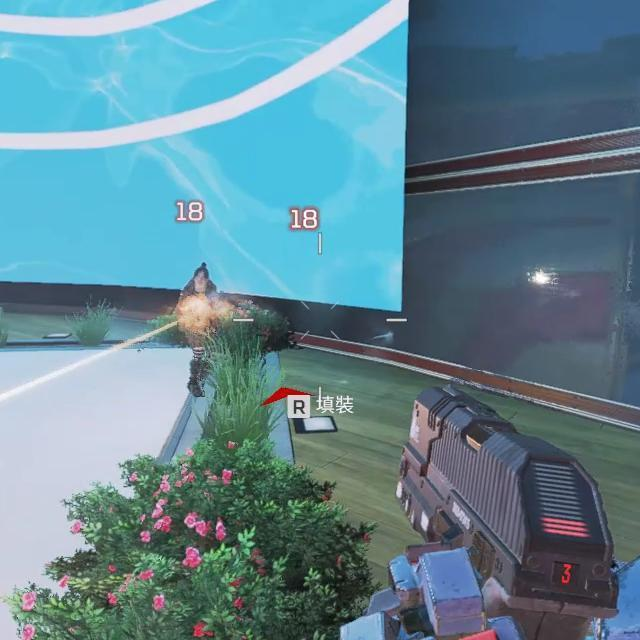avatar: (178, 260, 220, 398)
object: (178, 292, 216, 336)
